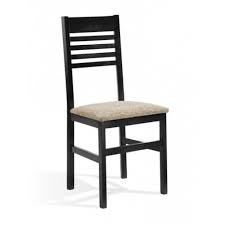tiyarina: (58, 10, 176, 210)
